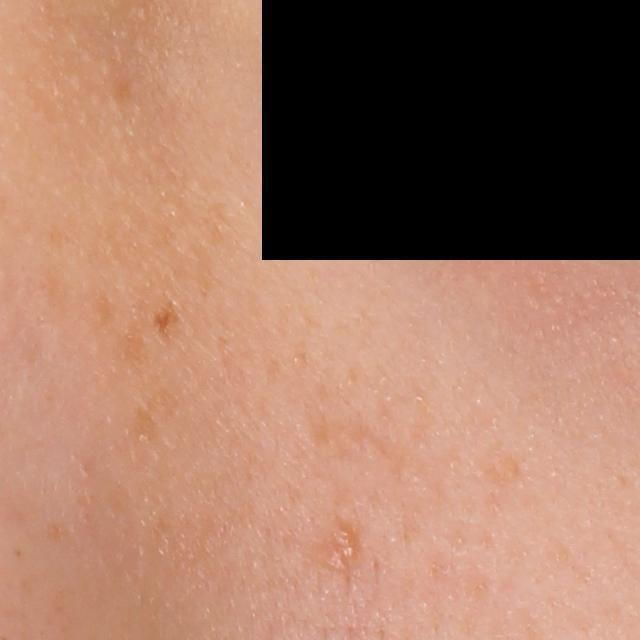melasma: (151, 305, 180, 341)
